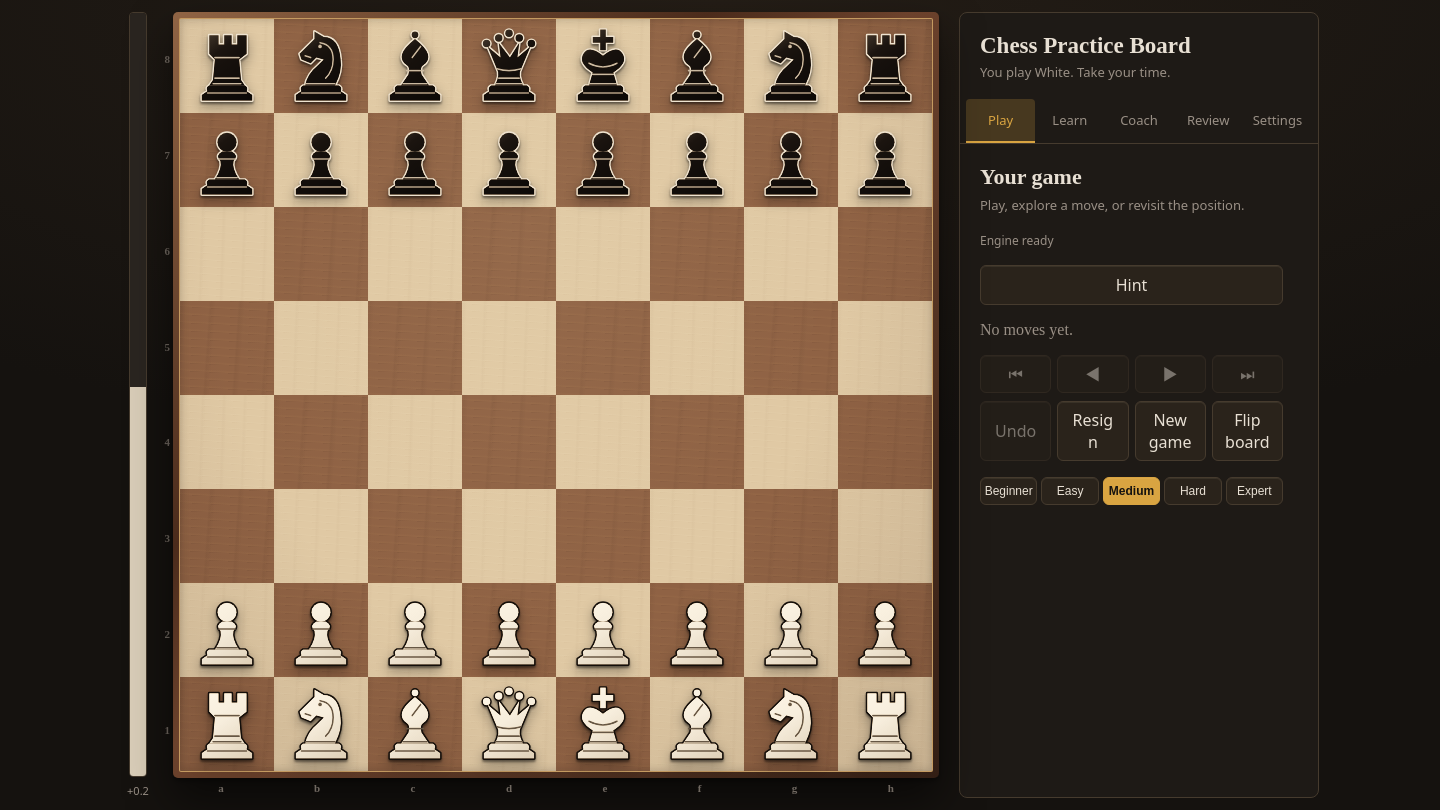
it: App › shows the pieces each side has taken
The width and height of the screenshot is (1440, 810).
Click the button named "e2, white pawn": (603,630) [556,583,650,677]
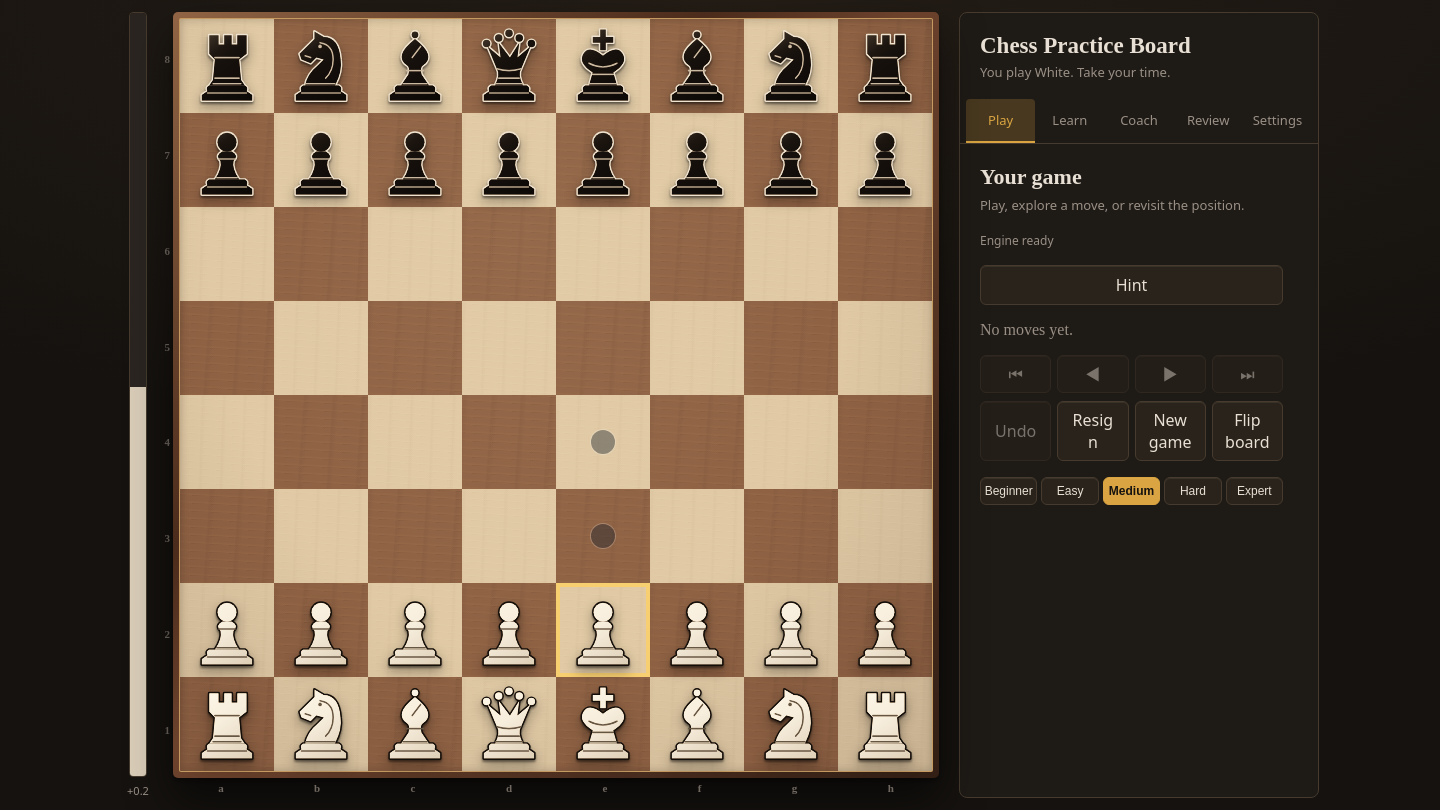
Click the button named "e4, empty": (603,442) [556,395,650,489]
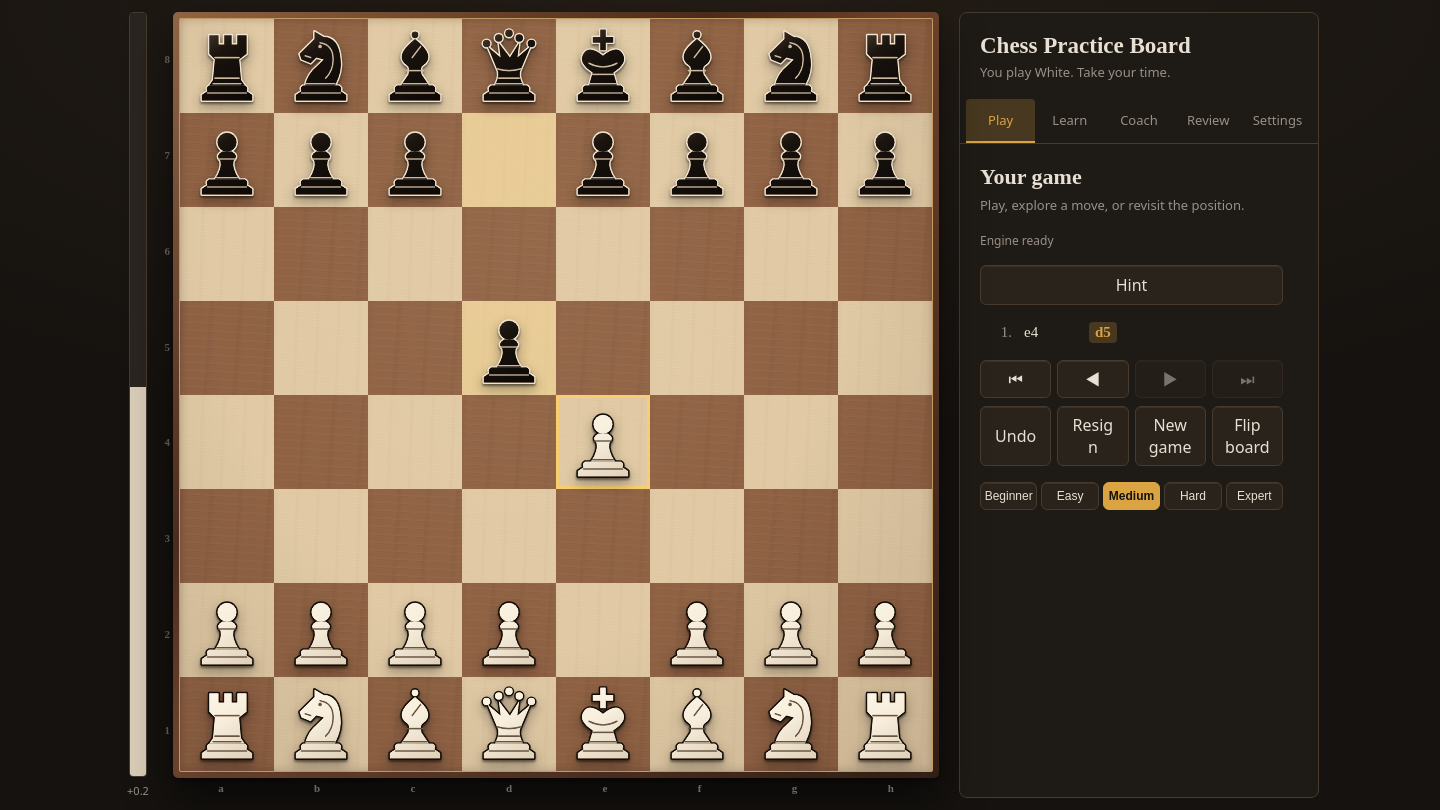
Click the button named "e4, white pawn": (603,442) [556,395,650,489]
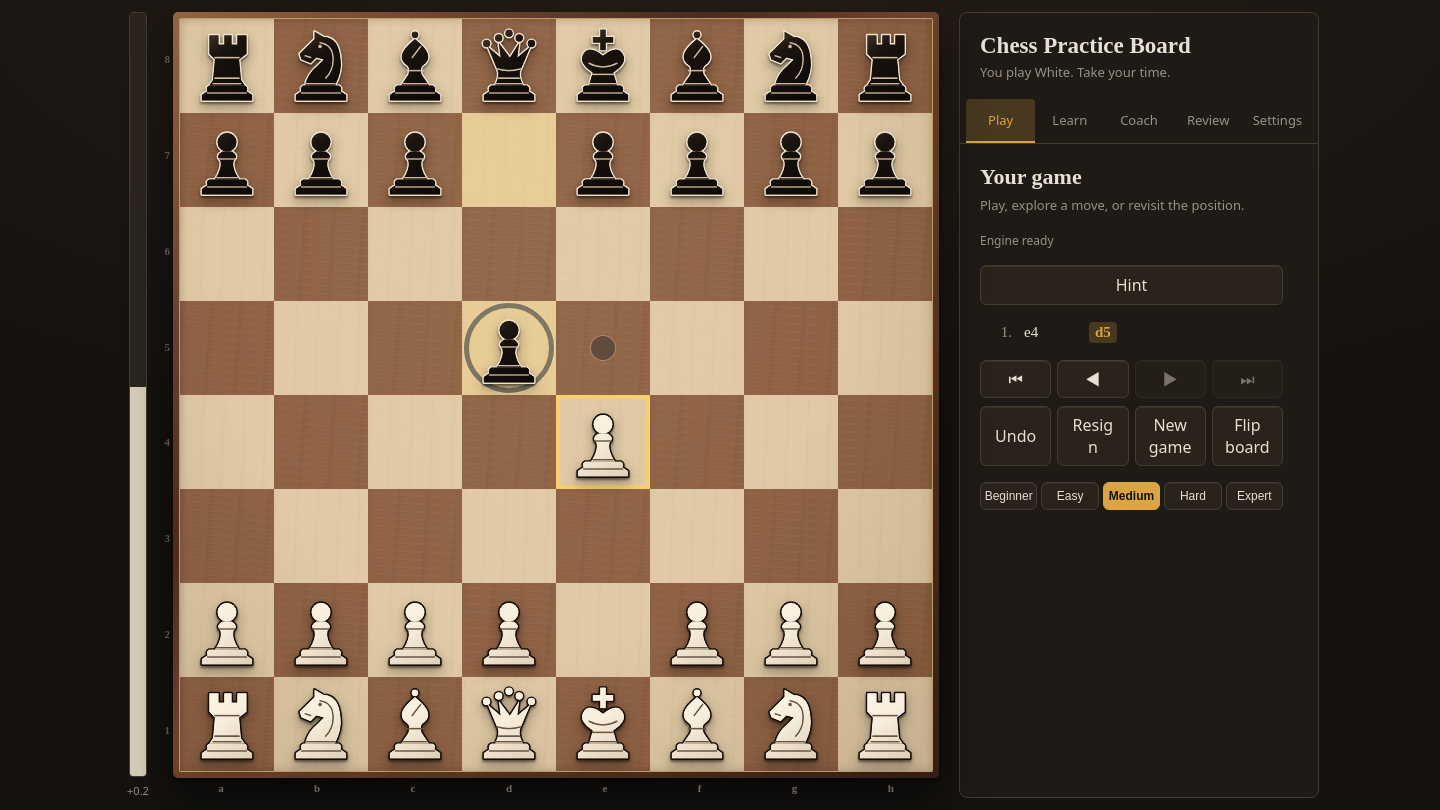
Click the button named "d5, black pawn": (509,348) [462,301,556,395]
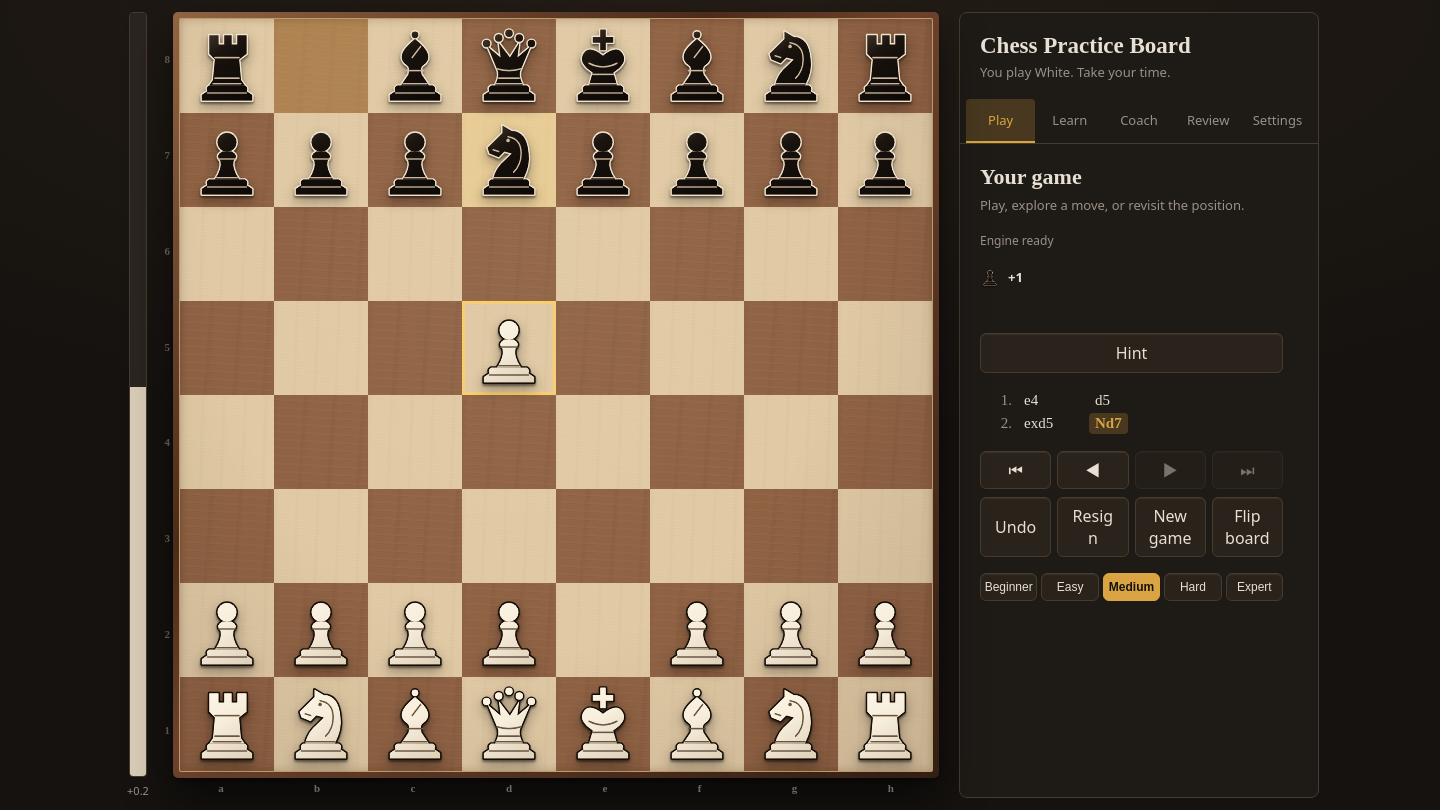
expect the picture named "Captured by White: a pawn." is shown: met, box [980,267,1000,287]
